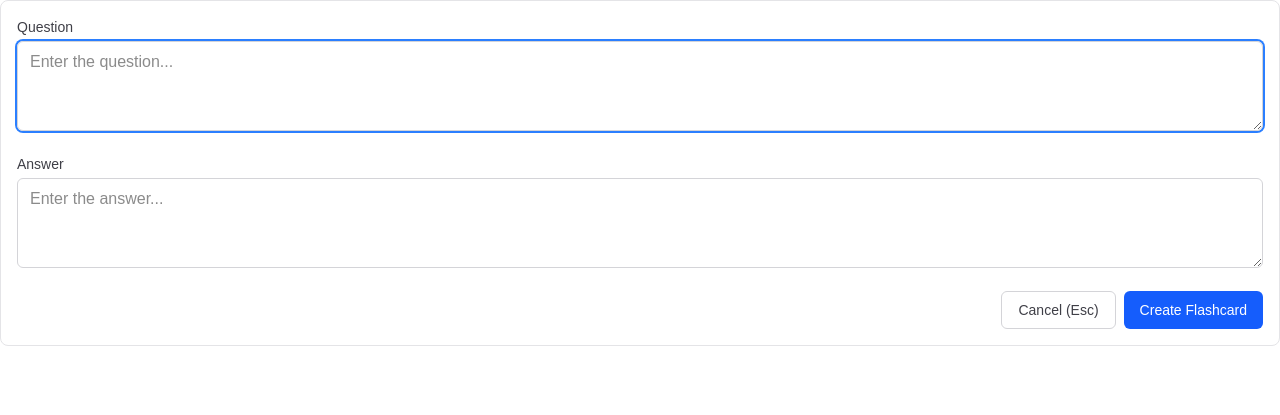
Test case: Form Validation Tests › FlashcardForm Validation › should handle submission error and display error message
Type "Question?" into the text box labelled "Question" at [640, 86], box [17, 41, 1263, 131]
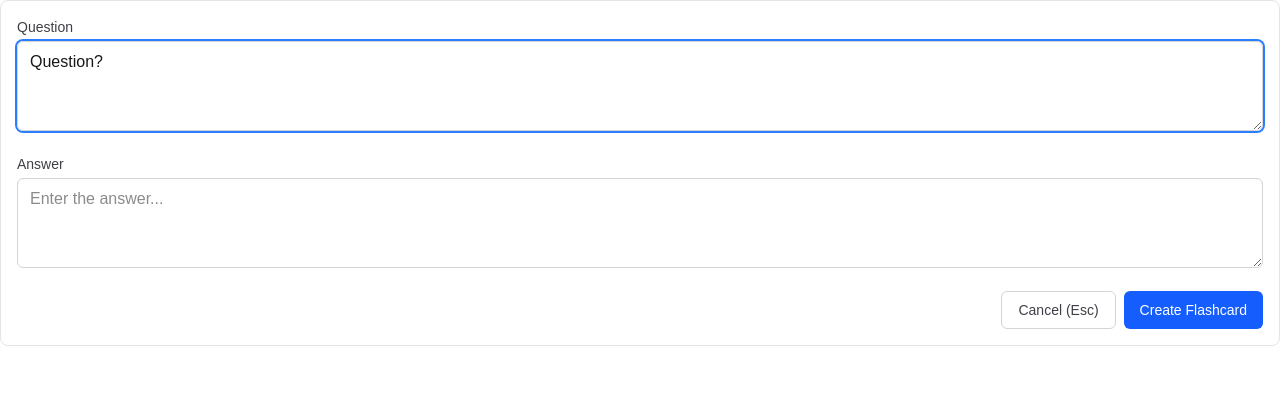
Type "Answer" into the text box labelled "Answer" at [640, 223], box [17, 178, 1263, 268]
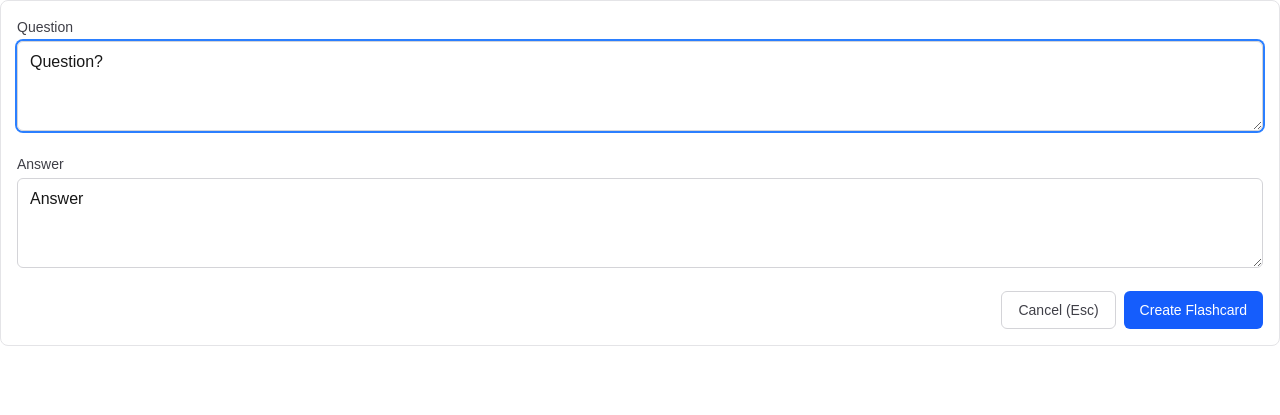
Click the button "Create Flashcard" at [1193, 310], box [1124, 291, 1263, 329]
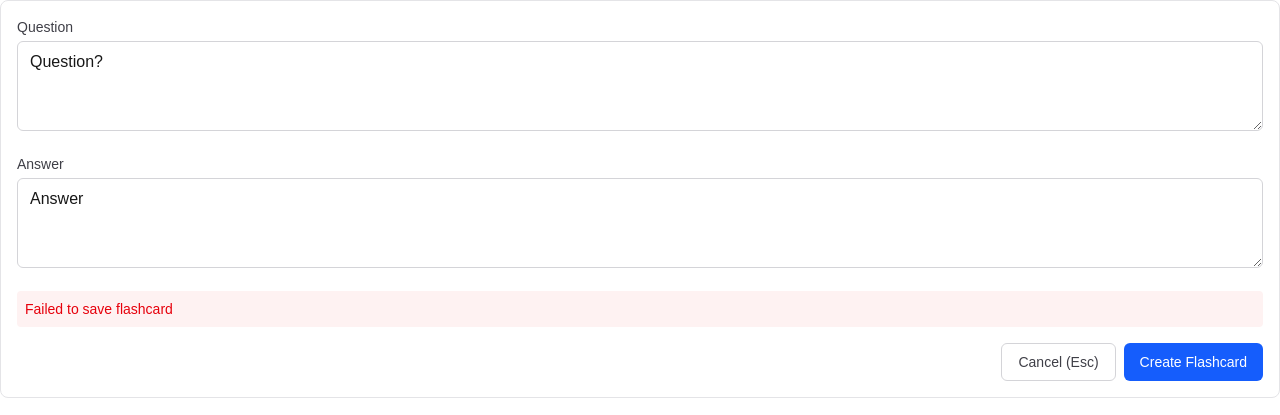
Now the text "Failed to save flashcard" is shown, box [17, 291, 1263, 327]
